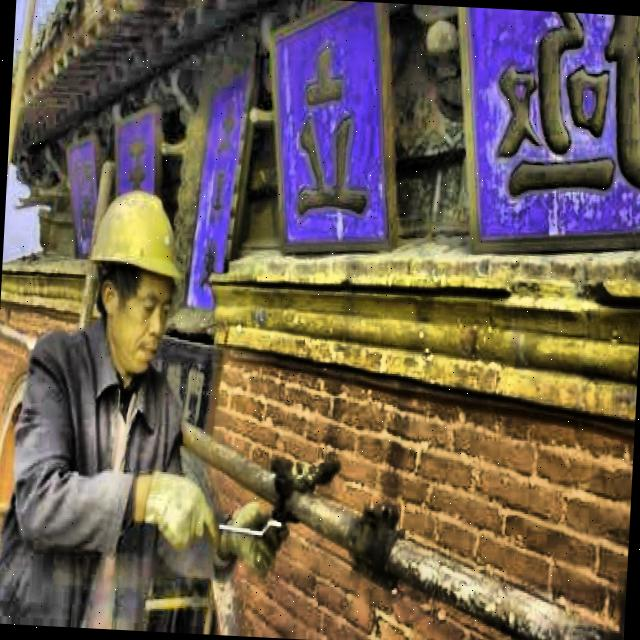helmet: (74, 174, 192, 378)
